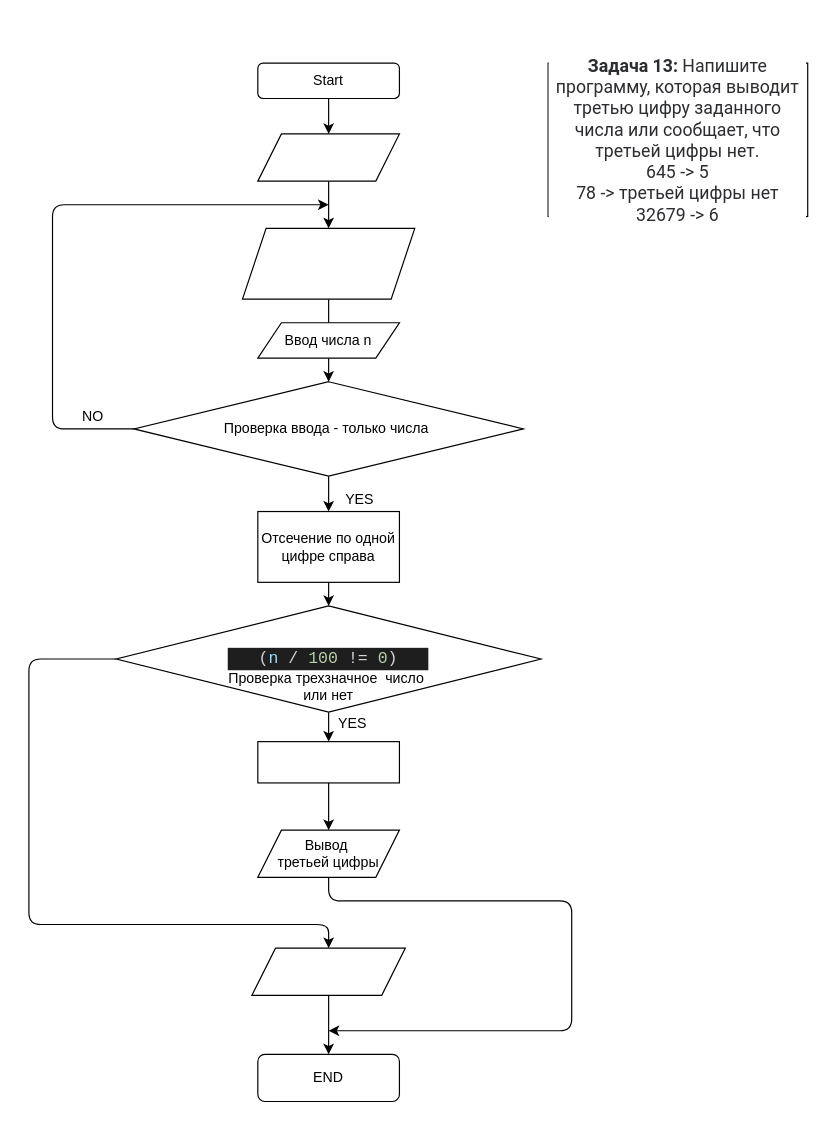
The diagram is 828 pixels wide and 1122 high, and some of its shapes have lost their labels. The shapes that lost their labels are listed below. From the top down, each one's centre as x and y in pixels, then its label:
At [328,157]: "Вывод приветствия".
At [328,263]: "Вывод требований к вводимому числу".
At [328,761]: "определение третьей цифры".
At [328,971]: "Вывод - третьей цифры нет".
